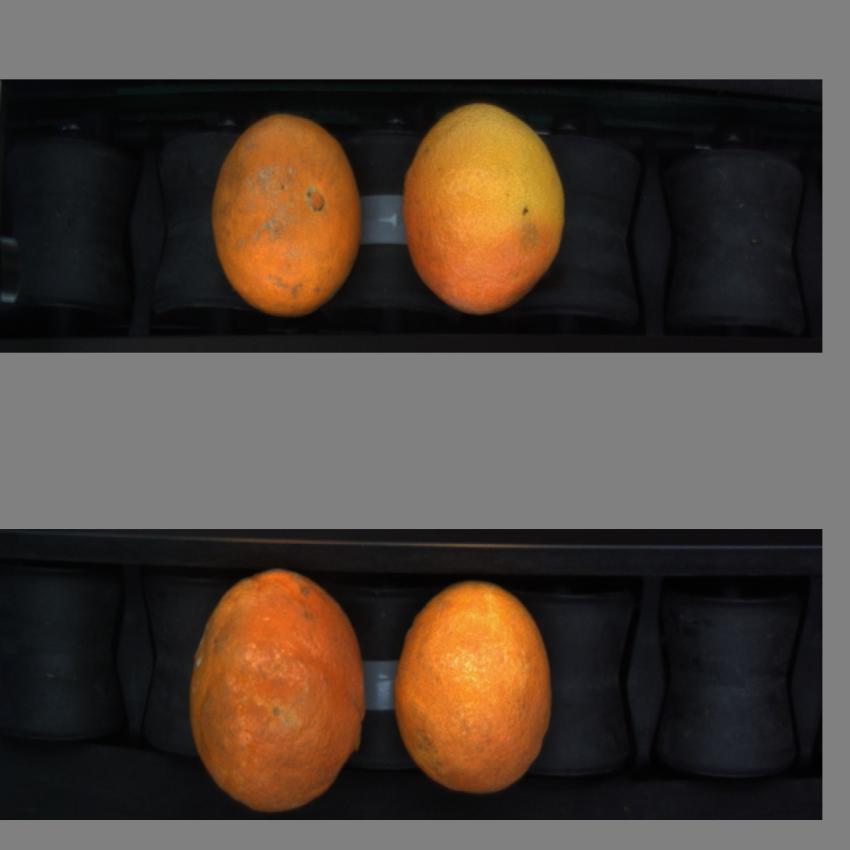Buen estado: (392, 562, 558, 802), (398, 96, 571, 320), (206, 105, 368, 324)
Mal estado: (180, 566, 372, 815)
